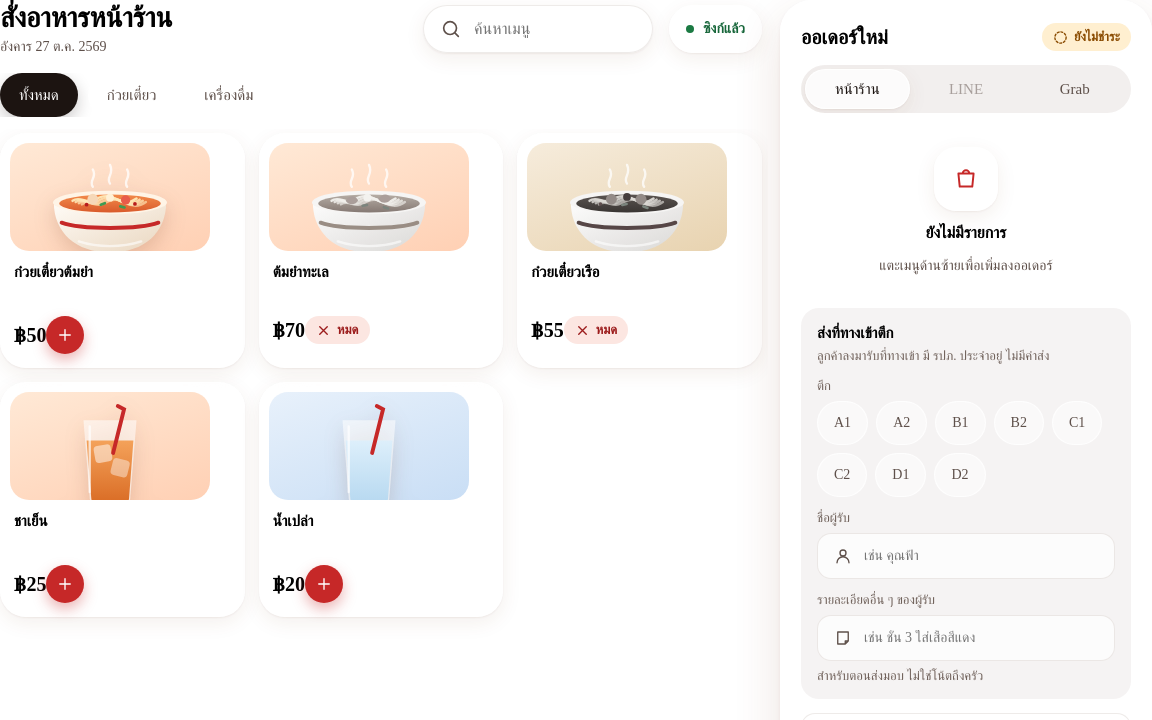
adding a dish › a choose-one group replaces its choice; a choose-several group stops at its maximum
Click the button "ก๋วยเตี๋ยวต้มยำ ฿50" at x=122, y=251, box [0,133,245,368]
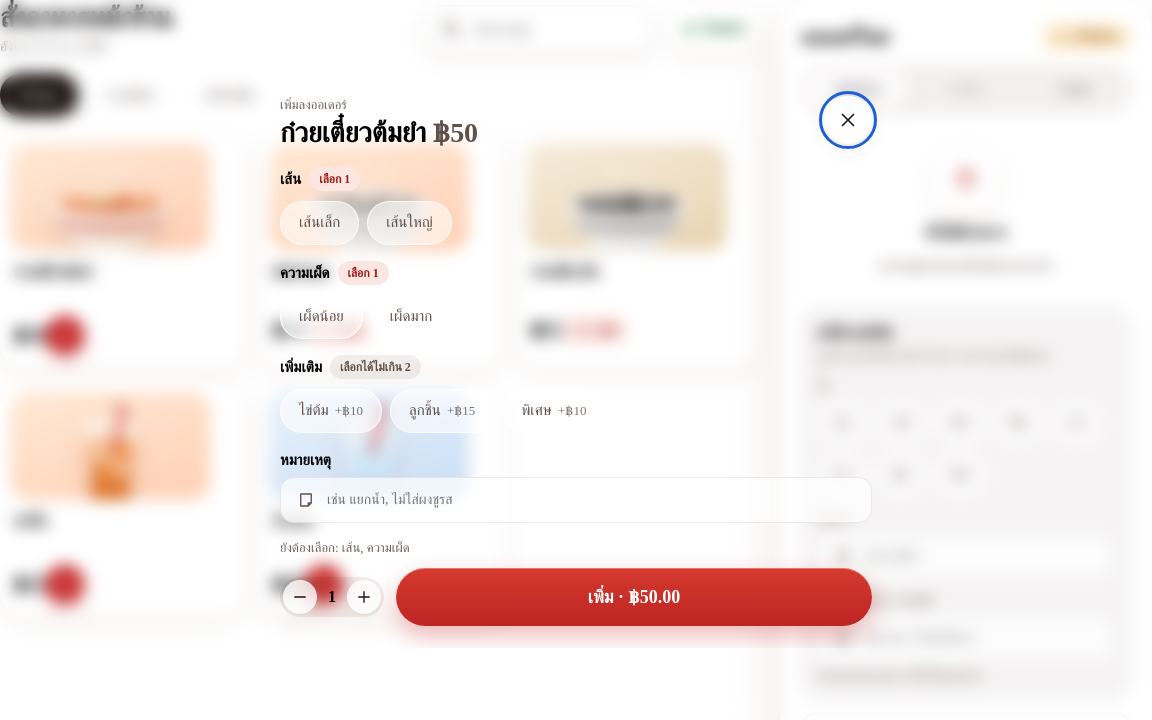
Click the radio button labelled "เส้นเล็ก" at x=320, y=223, box [280,201,359,245]
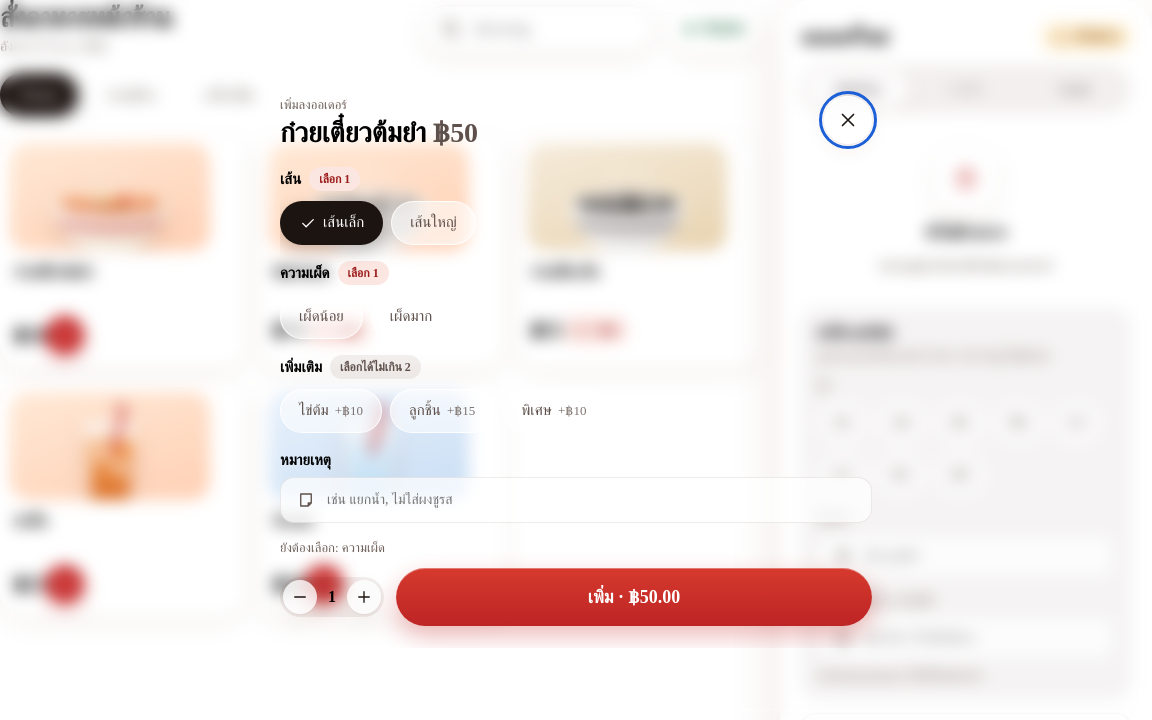
Click the radio button labelled "เผ็ดน้อย" at x=321, y=317, box [280,295,363,339]
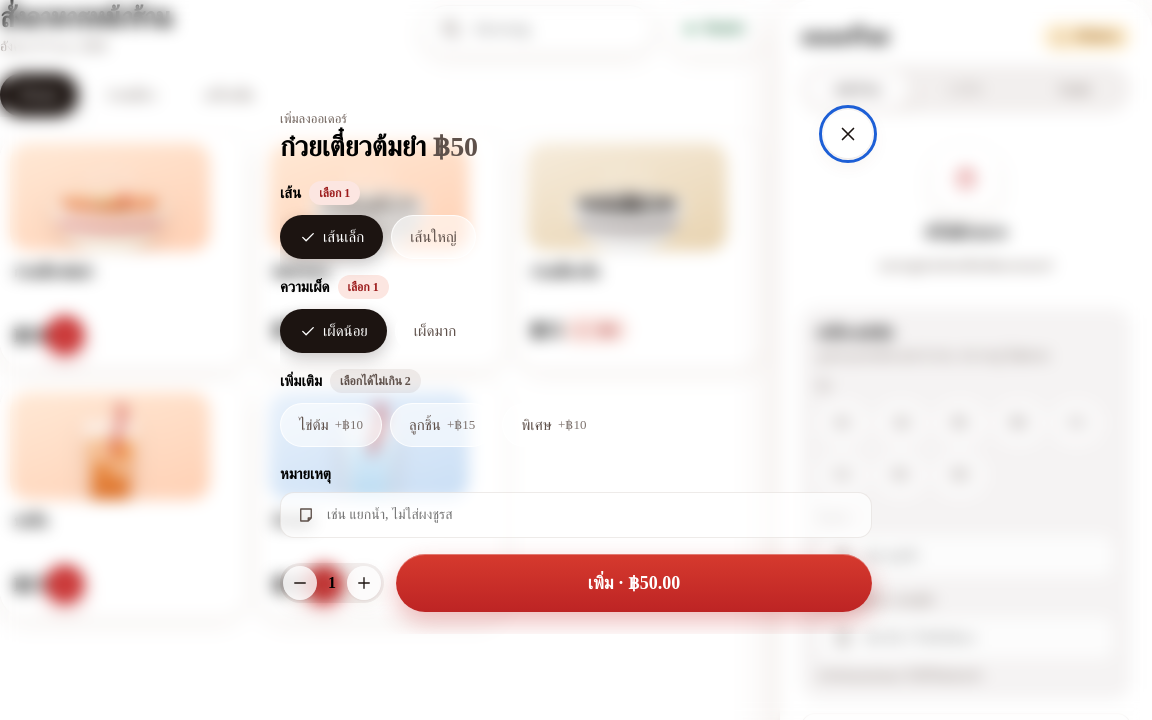
Click the radio button labelled "เส้นใหญ่" at x=433, y=237, box [391,215,476,259]
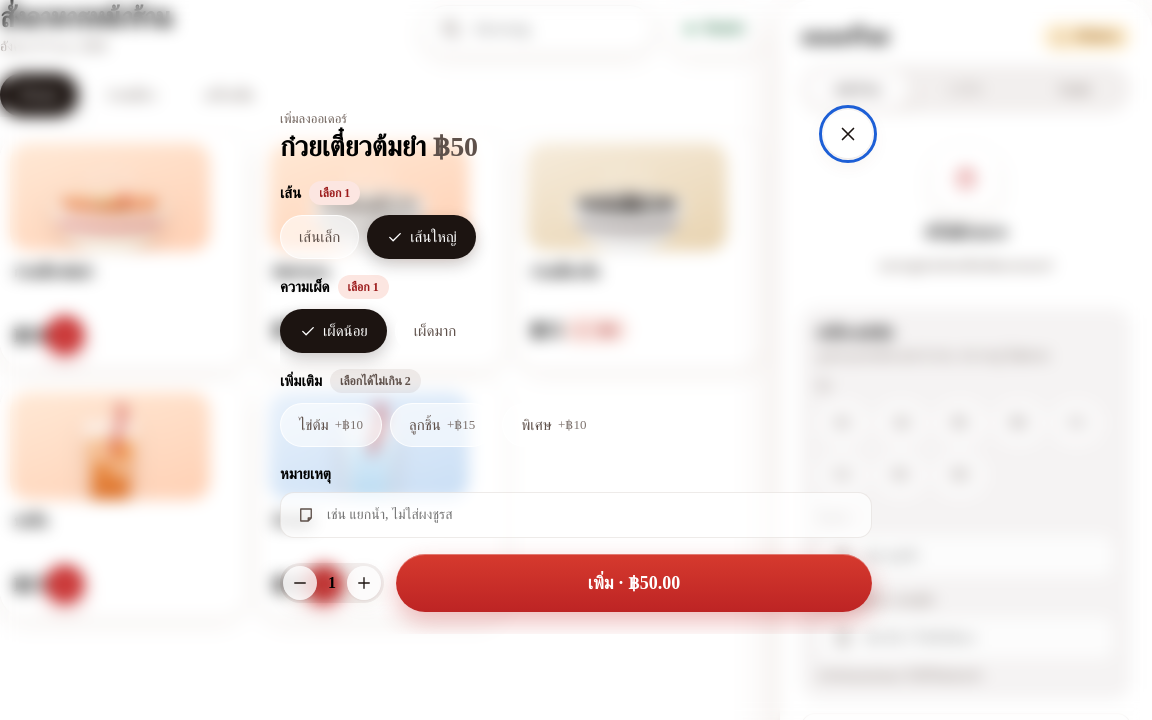
Check: the radio button labelled "เส้นใหญ่" is checked, box [367,215,476,259]
Check: the radio button labelled "เส้นเล็ก" is not checked, box [280,215,359,259]
Click the checkbox labelled "ไข่ต้ม +฿10" at x=331, y=425, box [280,403,382,447]
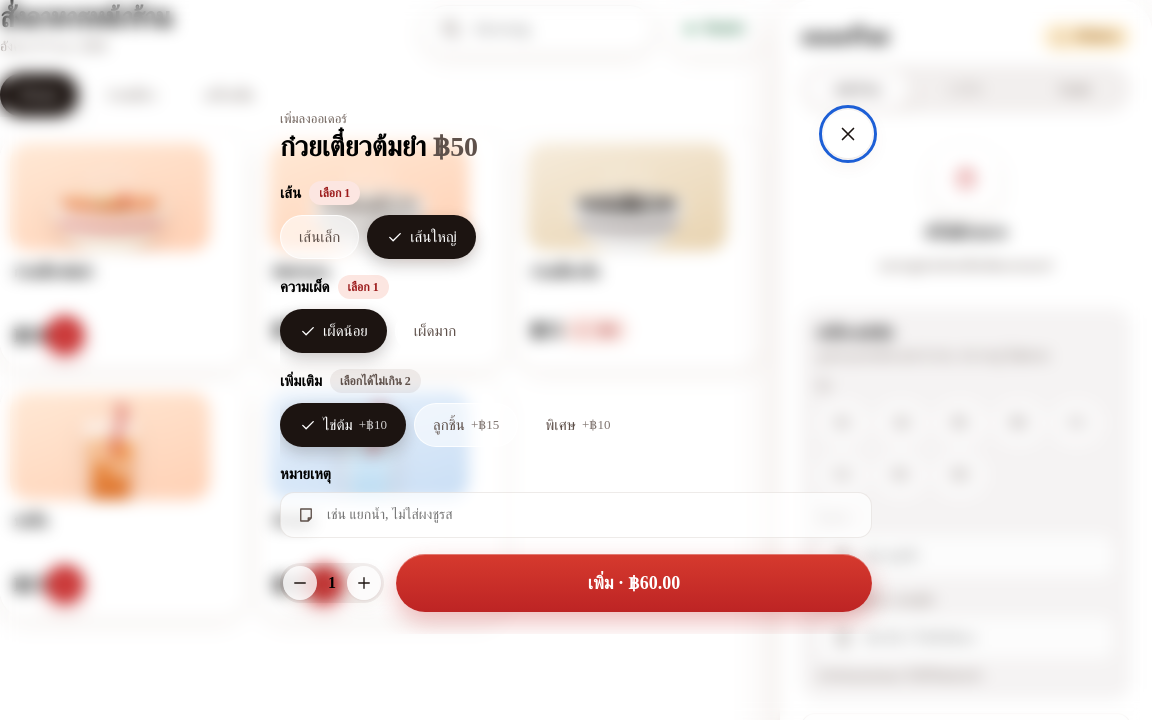
Click the checkbox labelled "ลูกชิ้น +฿15" at x=466, y=425, box [414,403,518,447]
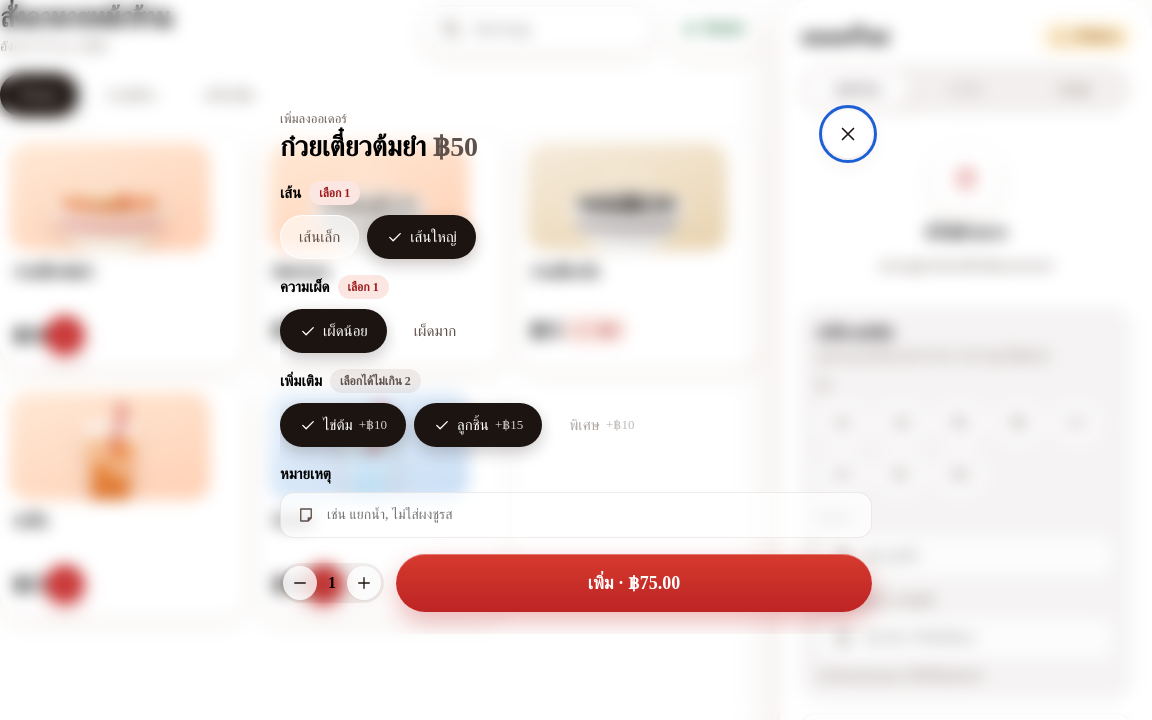
Check: the checkbox labelled "พิเศษ +฿10" is disabled, box [550,403,653,447]
